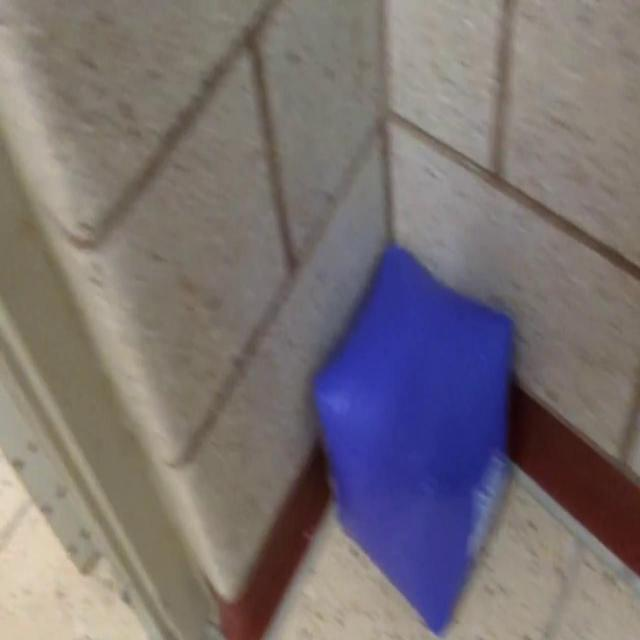frc_cube: (314, 244, 514, 632)
